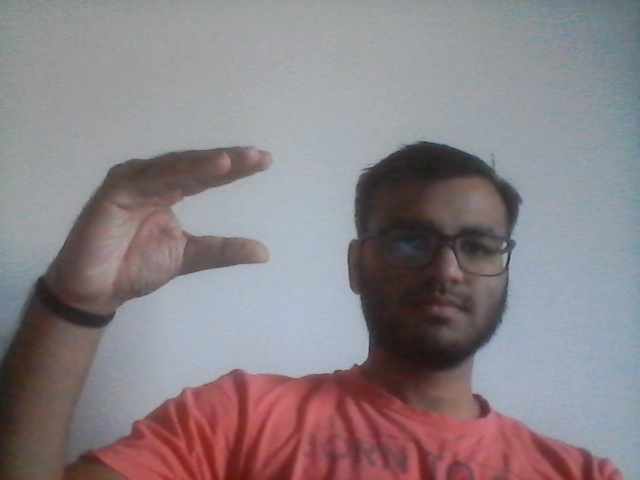No: (50, 137, 303, 302)
